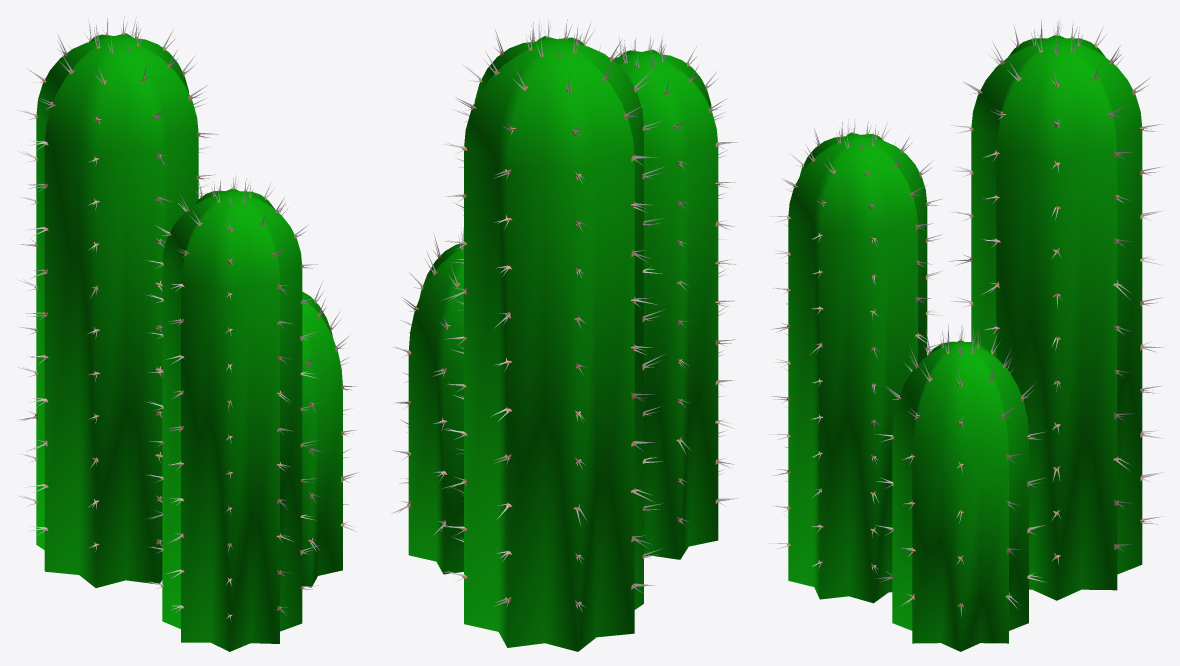
Rendered from cactus_3.fbx.
3 renders of one model, left to right at view 1: azimuth 30°, elevation 25°; view 2: azimuth 150°, elevation 25°; view 3: azimuth 270°, elevation 25°, orthographic. The views are drawn at different scales.
Parts seen in each view (by area): view 1: Cylinder.002, Cylinder, Cylinder.001; view 2: Cylinder.002, Cylinder, Cylinder.001; view 3: Cylinder.002, Cylinder, Cylinder.001.
Part boxes in pixels (x1,y1,x2,y2): Cylinder.002: (16,16,218,587); Cylinder: (145,173,318,651); Cylinder.001: (302,281,358,587); Cylinder.002: (441,19,665,651); Cylinder: (613,33,738,559); Cylinder.001: (390,228,463,574); Cylinder.002: (949,15,1164,600); Cylinder: (769,118,943,603); Cylinder.001: (874,324,1046,651).
Size of the model in its own units: 115 by 209 by 139.
